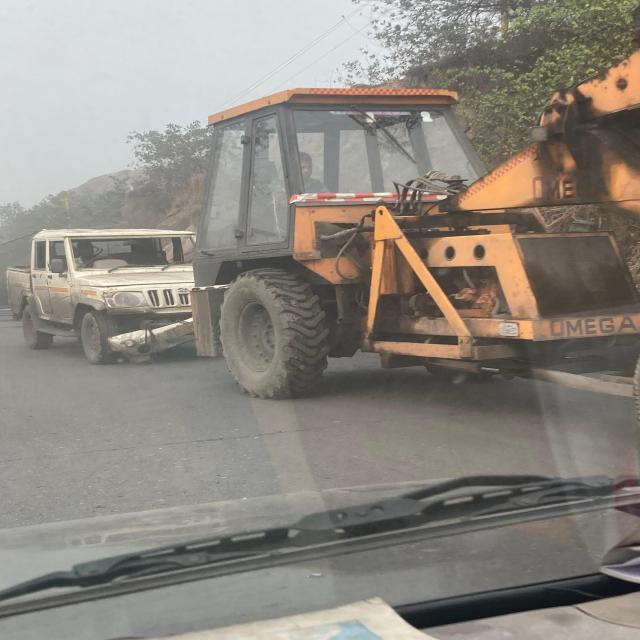light_vehicle: (0, 219, 219, 368)
